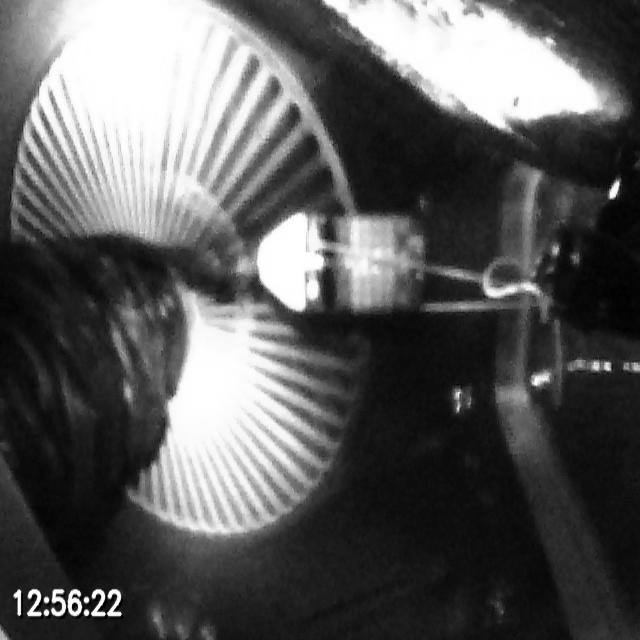head: (258, 212, 427, 315)
